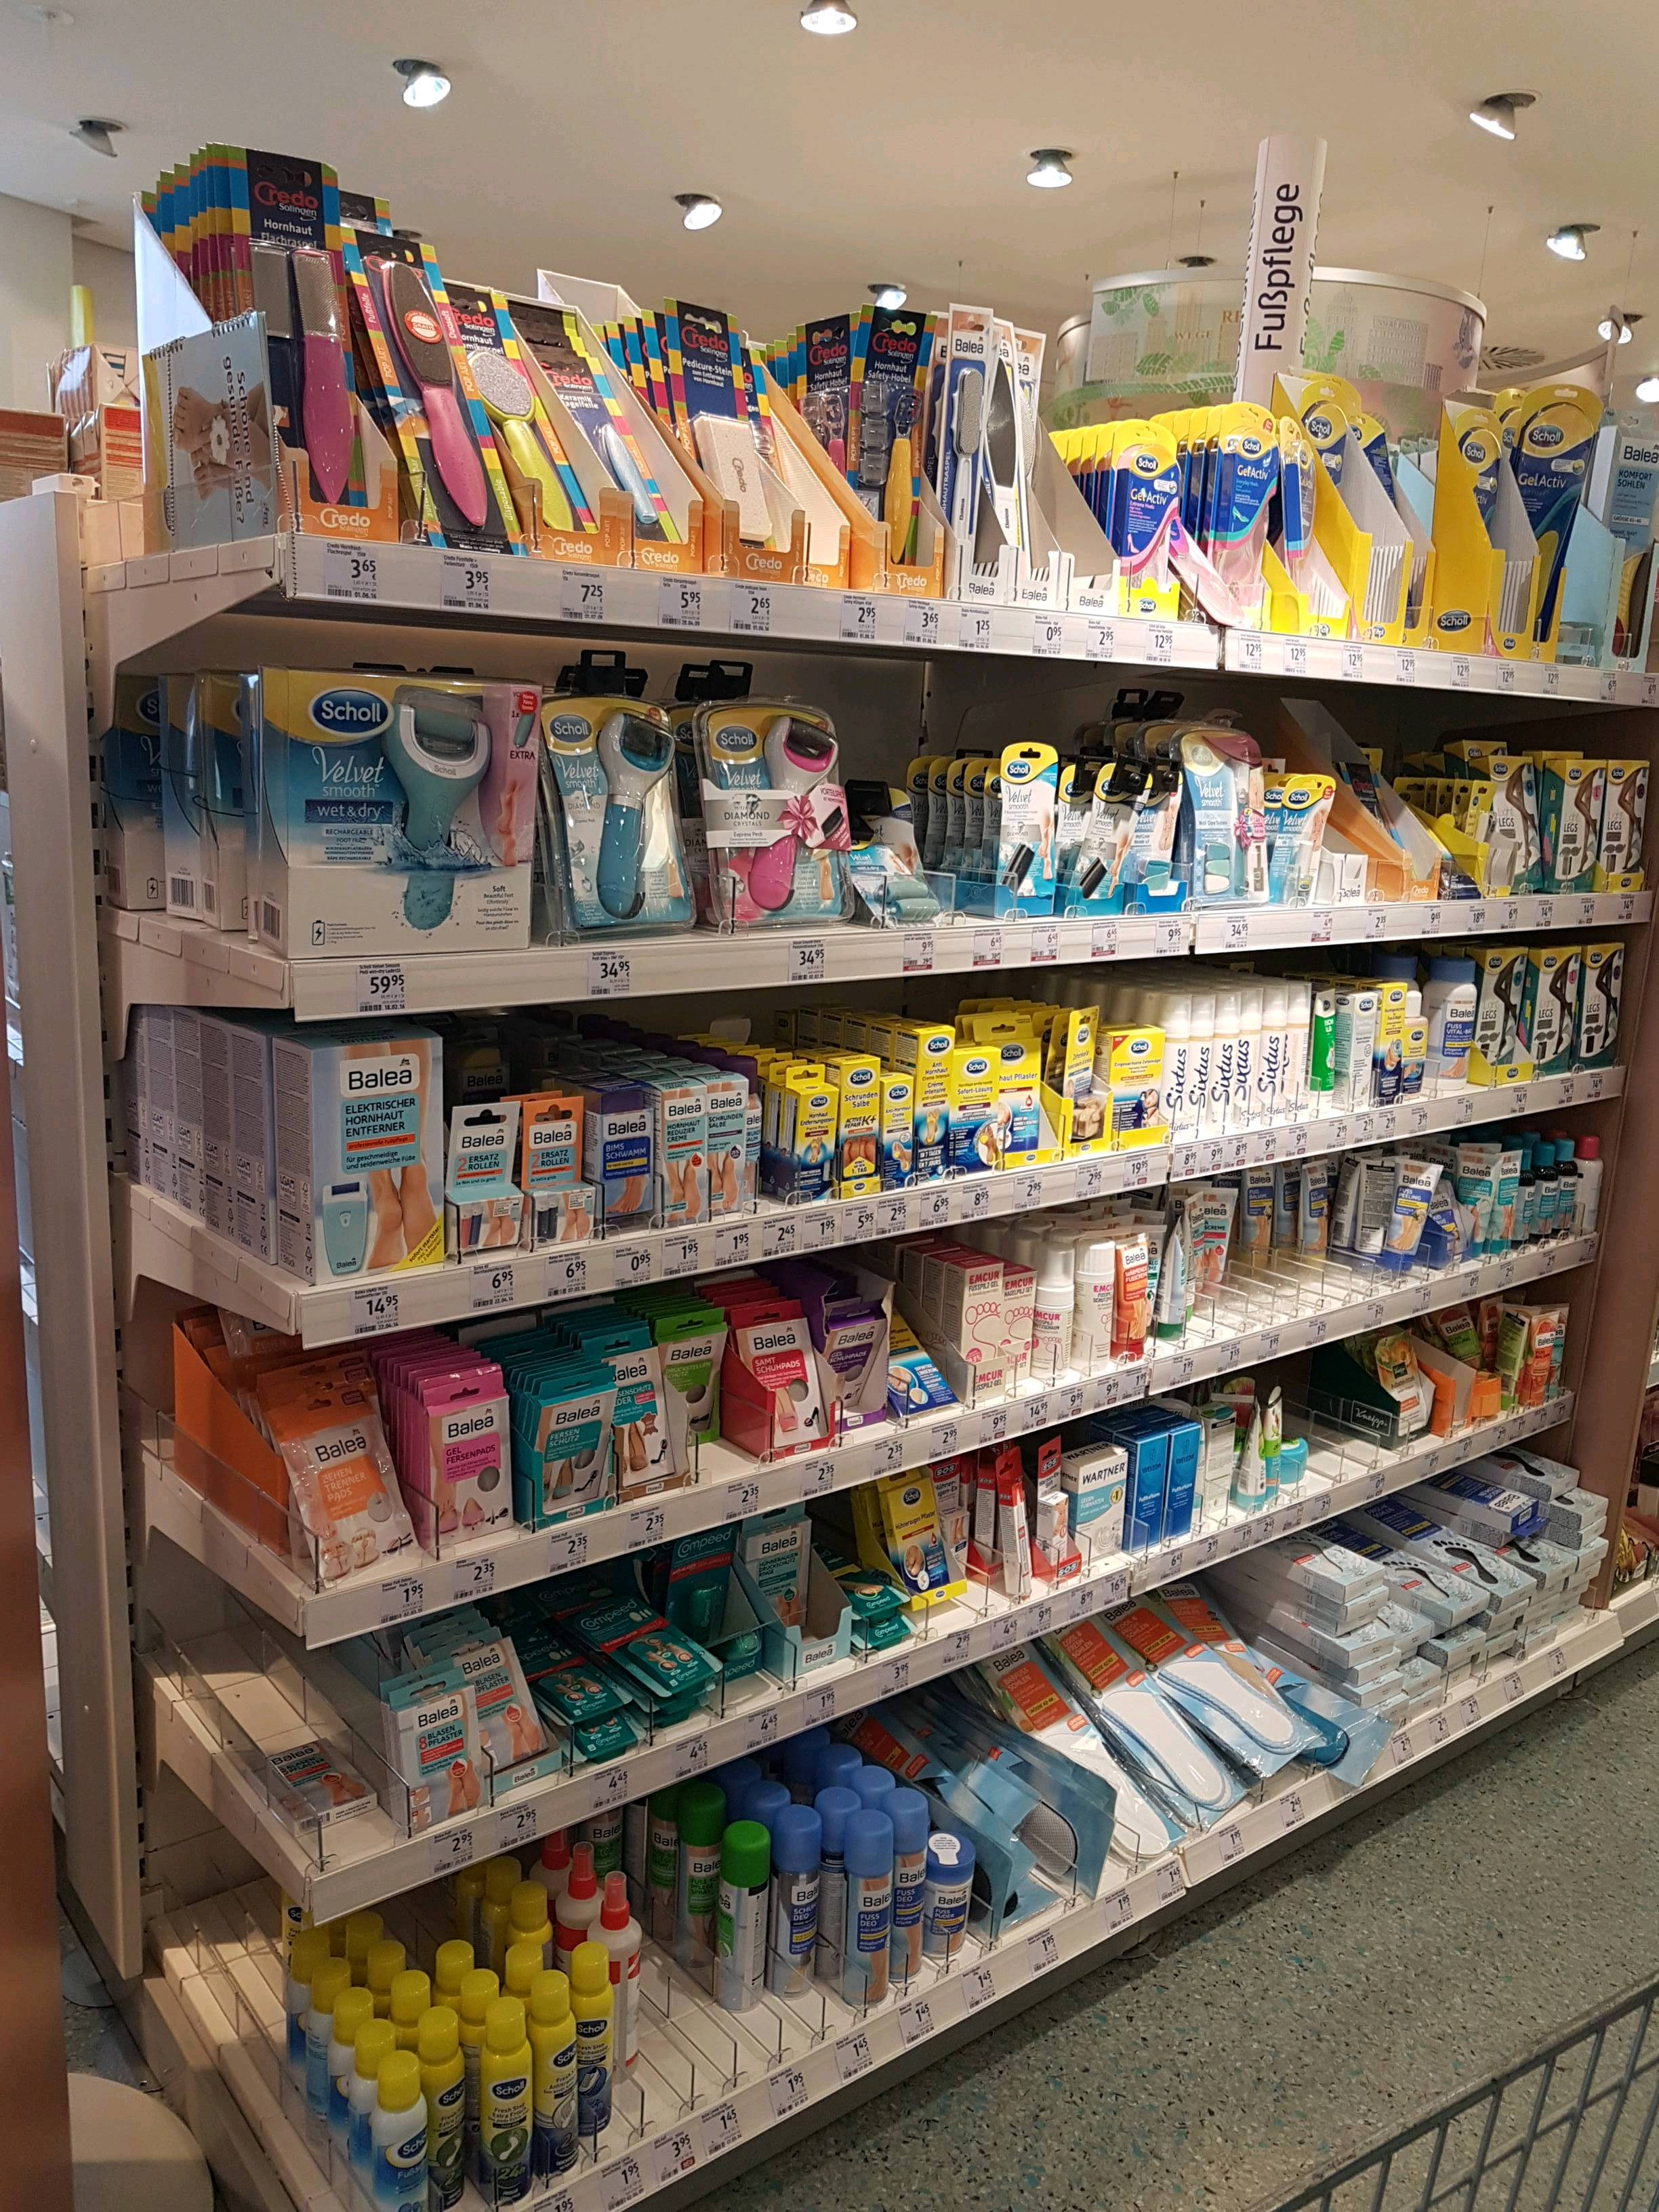Misplacement: (1162, 1155, 1368, 1353), (601, 1909, 692, 2139), (664, 1320, 762, 1491), (775, 1843, 861, 2033)
